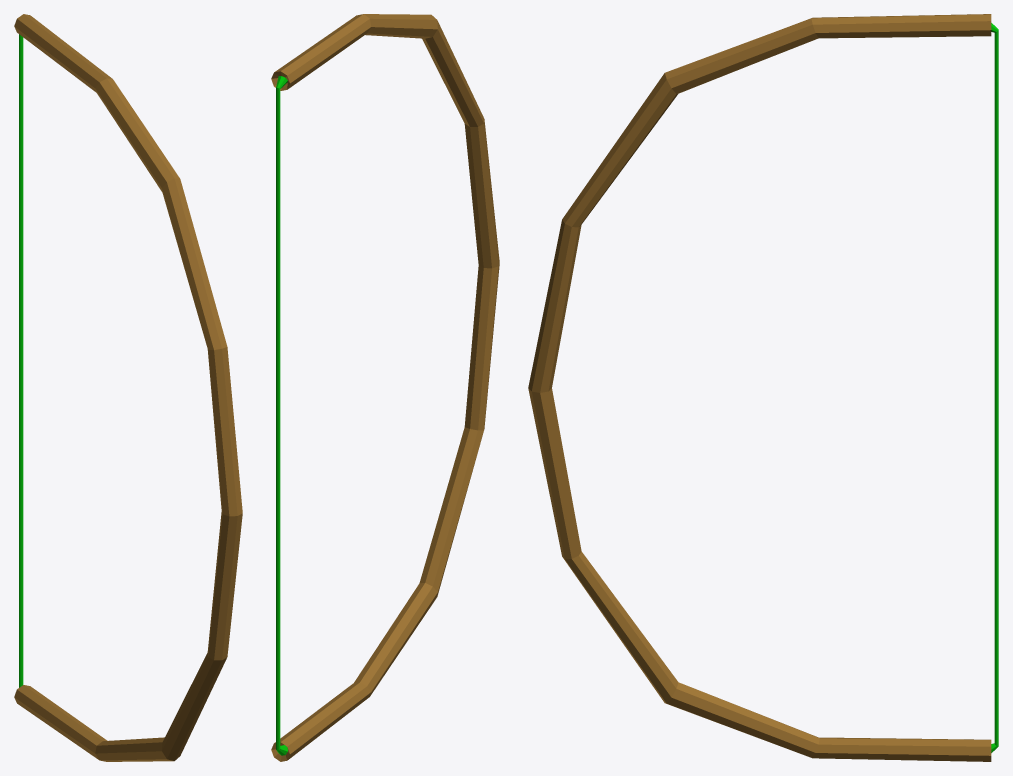
File: LowPolyBow.fbx
3 renders of one model, left to right at view 1: azimuth 30°, elevation 25°; view 2: azimuth 150°, elevation 25°; view 3: azimuth 270°, elevation 25°, orthographic. The views are drawn at different scales.
Parts seen in each view (by area): view 1: Bow; view 2: Bow; view 3: Bow.
Boxes of the visible parts, x1,y1,x2,y2 form: Bow: [14, 14, 242, 761]; Bow: [271, 14, 499, 761]; Bow: [528, 14, 998, 761].
Size of the model in its own units: 10 by 348 by 198.
